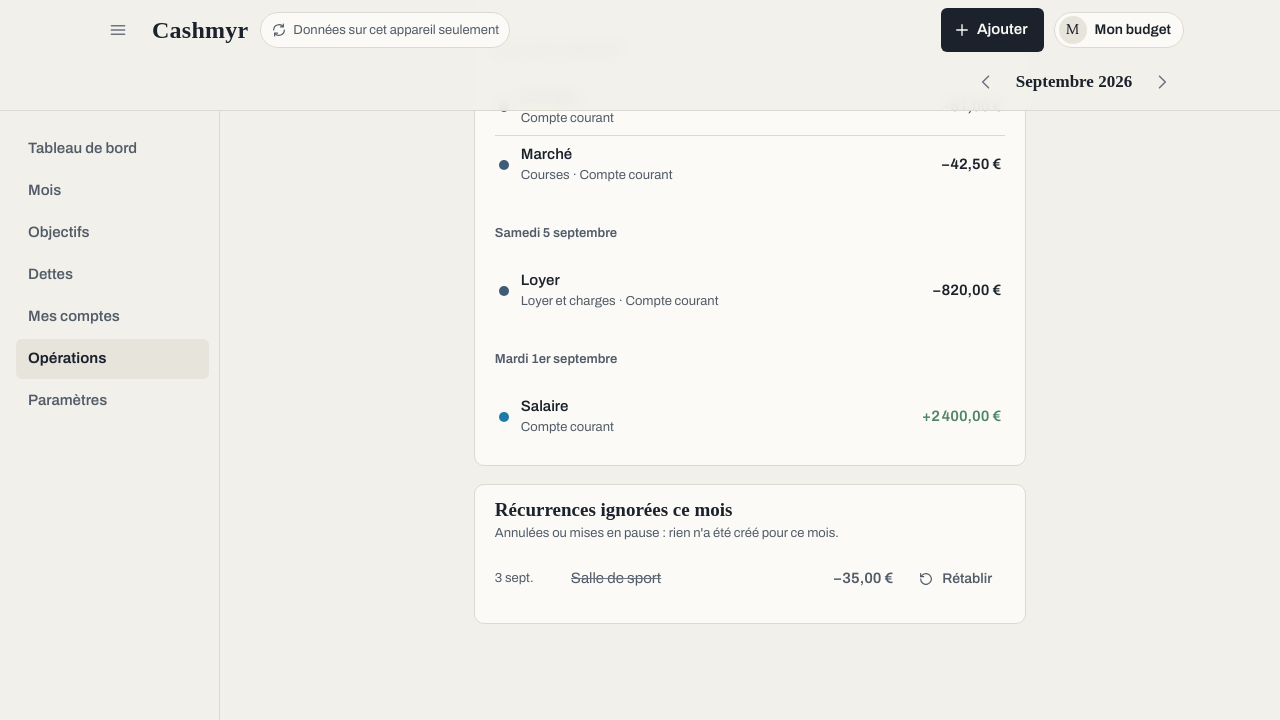
Test: récurrences ignorées et mois à venir › une occurrence annulée apparaît dans la section, et « Rétablir » la régénère
The width and height of the screenshot is (1280, 720).
(page scrolled)
Click the button with aria-label "Rétablir « Salle de sport »".
click(955, 579)  # box [905, 561, 1005, 597]
(page scrolled)
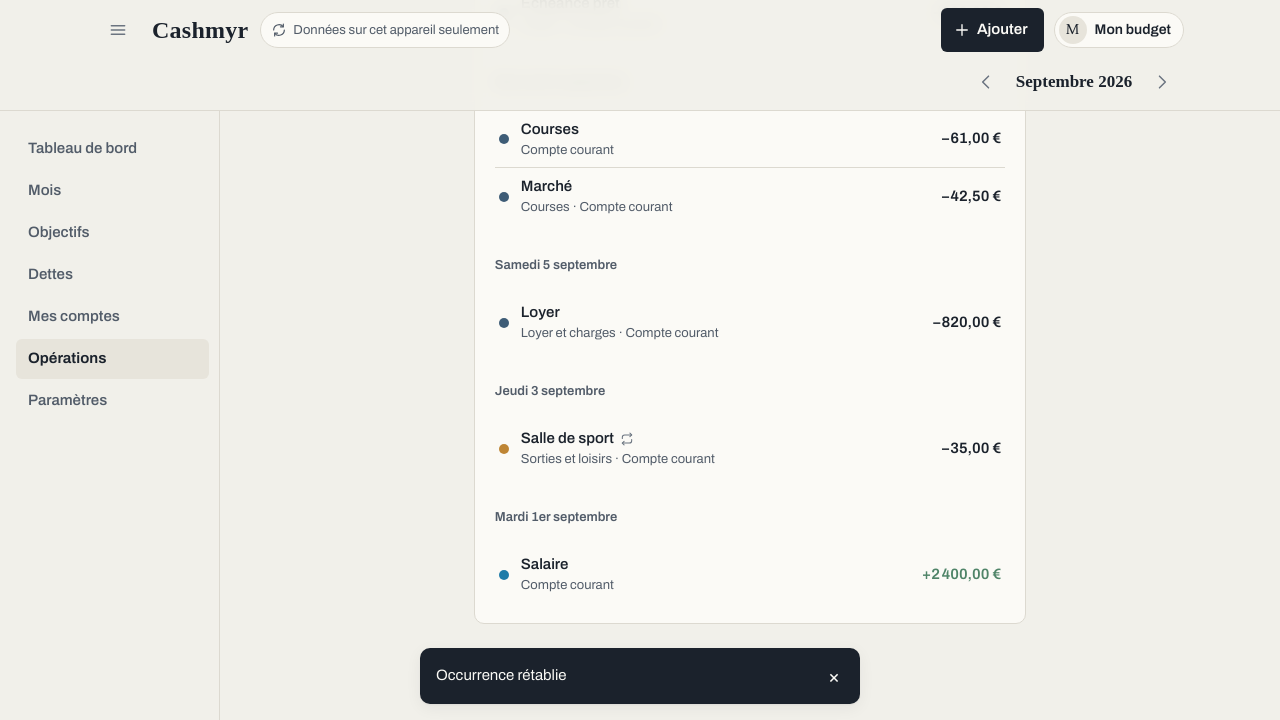
Expected: the text "Occurrence rétablie" is shown, [436, 665, 567, 687]
Expected: the heading "Récurrences ignorées ce mois" is gone
